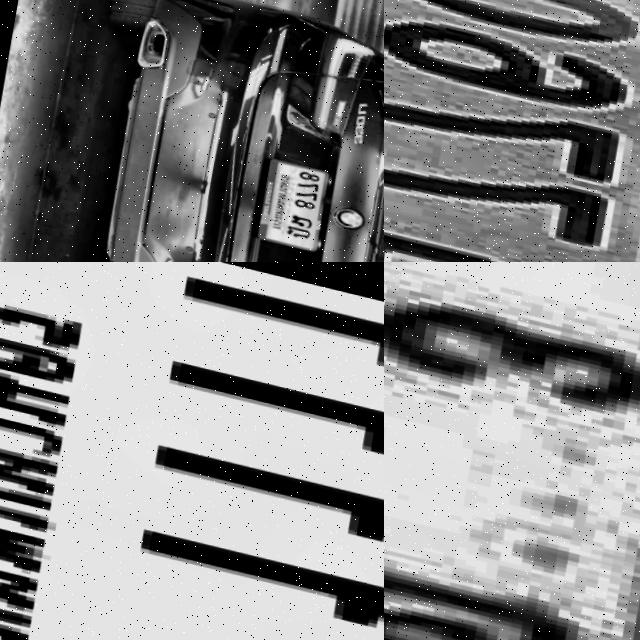license-plate: (0, 262, 384, 640), (384, 262, 640, 640), (384, 0, 640, 262), (252, 150, 332, 247)
